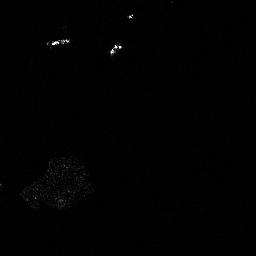ship: (45, 35, 70, 47)
